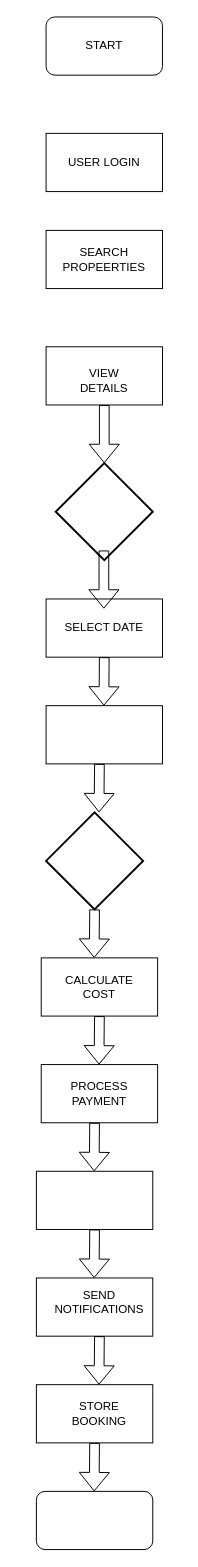
This 198x1567 diagram has some shape labels left out. The shapes that lost their labels are listed below. From the top down, each one's box as (x1, y1, x2, y2) in pixels, then its label:
(54, 462, 153, 561): CHECK AVAILABILITY
(45, 705, 162, 764): CREATE BOOKING REQUEST
(45, 811, 144, 910): VALIDATE DATE
(35, 1170, 153, 1229): BOOKING STATUS : CONFIRMED
(35, 1490, 153, 1550): STOP
